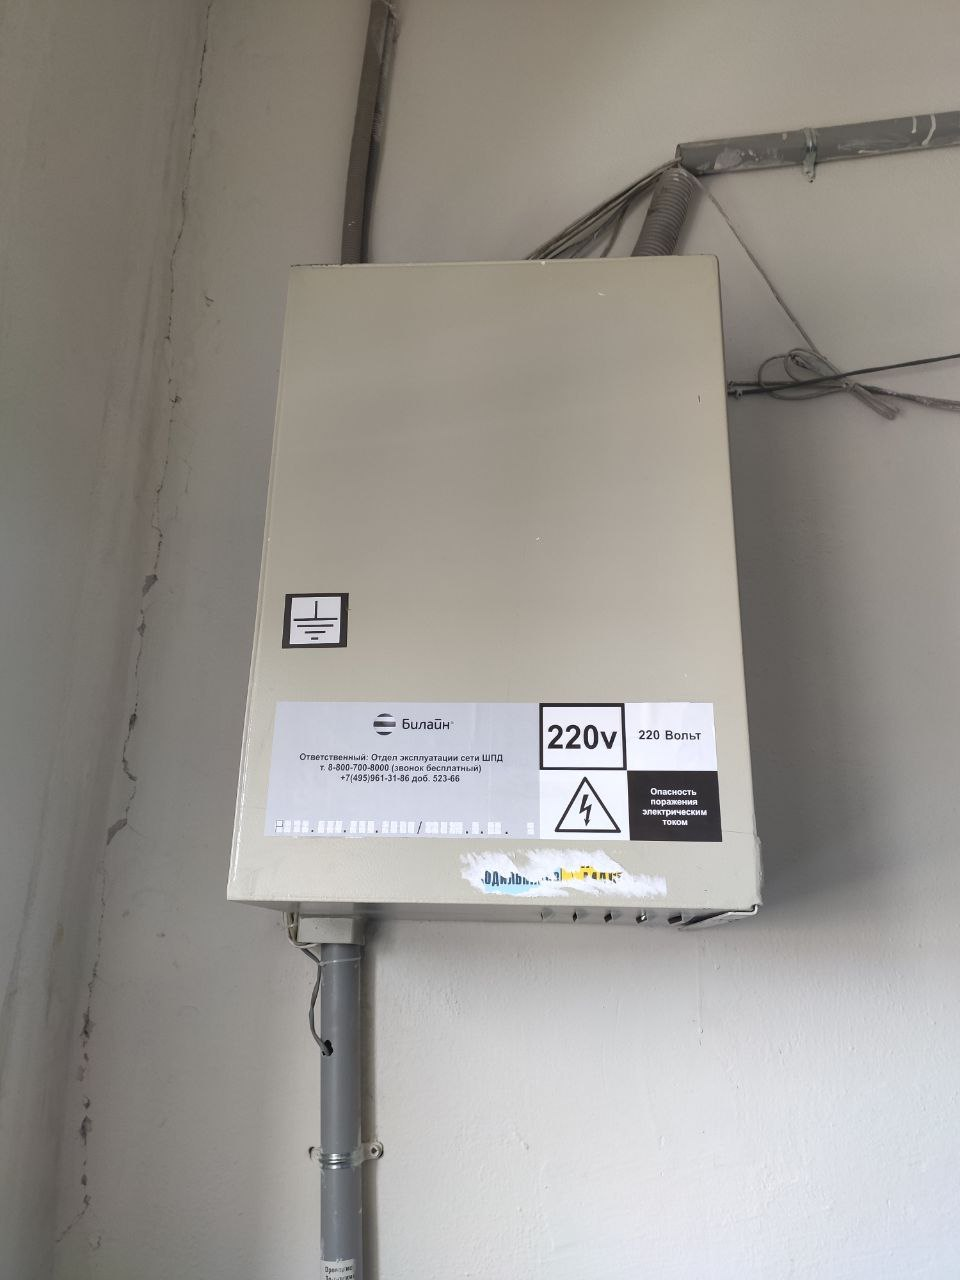sv-5: (217, 246, 770, 939)
